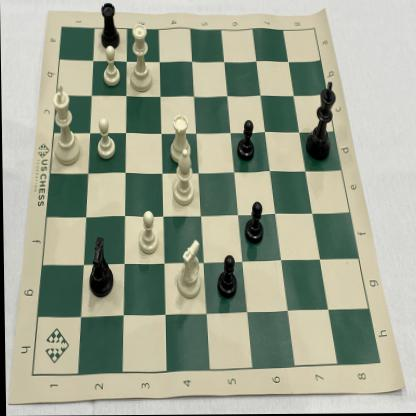black-king: (302, 78, 341, 165)
black-knight: (86, 235, 116, 302)
black-pawn: (241, 196, 266, 250), (214, 251, 239, 301), (235, 119, 255, 167)
black-rook: (97, 0, 122, 52)
white-bishop: (171, 148, 197, 207)
white-king: (49, 82, 82, 169)
white-knight: (174, 236, 203, 303)
white-pawn: (134, 206, 160, 258), (93, 113, 117, 163), (100, 43, 124, 89)
white-queen: (128, 21, 155, 97)
white-rook: (167, 112, 194, 166)
